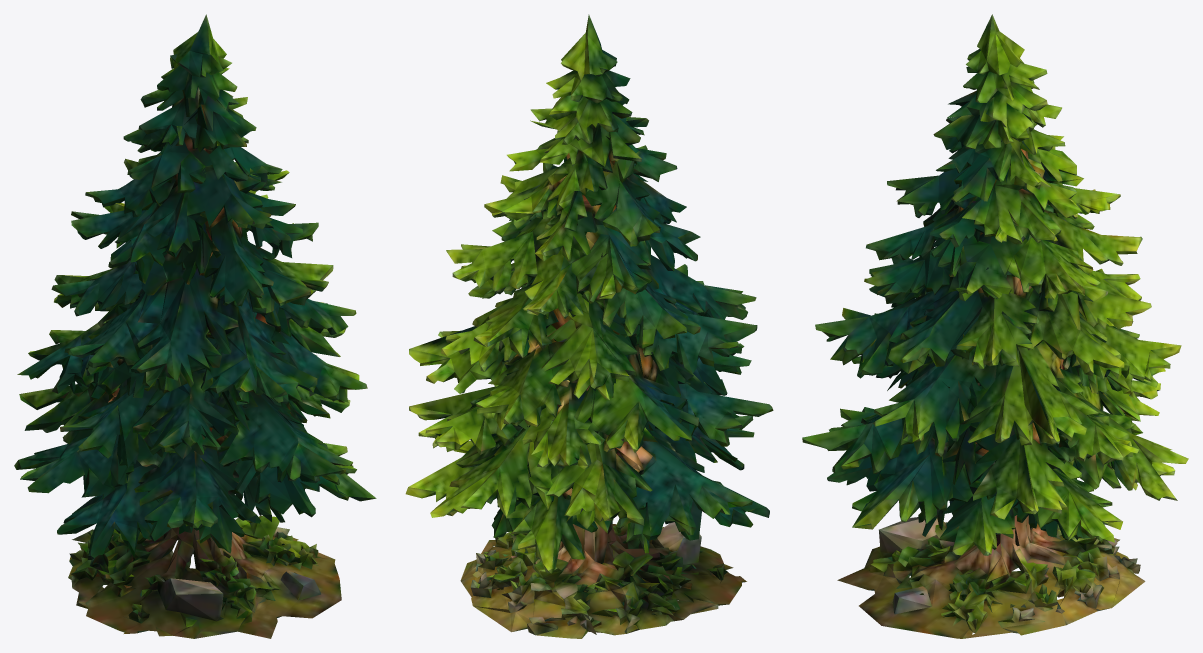
Rendered from pineTree.glb.
The picture shows the model from 3 angles, left to right: view 1: azimuth 30°, elevation 25°; view 2: azimuth 150°, elevation 25°; view 3: azimuth 270°, elevation 25°; orthographic projection.
Parts seen in each view (by area): view 1: geometry_0; view 2: geometry_0; view 3: geometry_0.
Part boxes in pixels (x1=…): geometry_0: x1=14, y1=14, x2=376, y2=638; geometry_0: x1=405, y1=14, x2=773, y2=638; geometry_0: x1=802, y1=14, x2=1188, y2=638.
Size of the model in its own units: 0.6074 by 0.9988 by 0.6118.
1 material, 1 textured.
